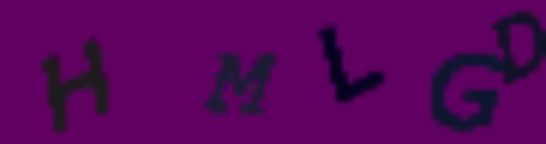D: (488, 9, 546, 85)
G: (426, 51, 505, 134)
H: (40, 35, 118, 138)
L: (315, 23, 397, 108)
M: (199, 46, 278, 118)
